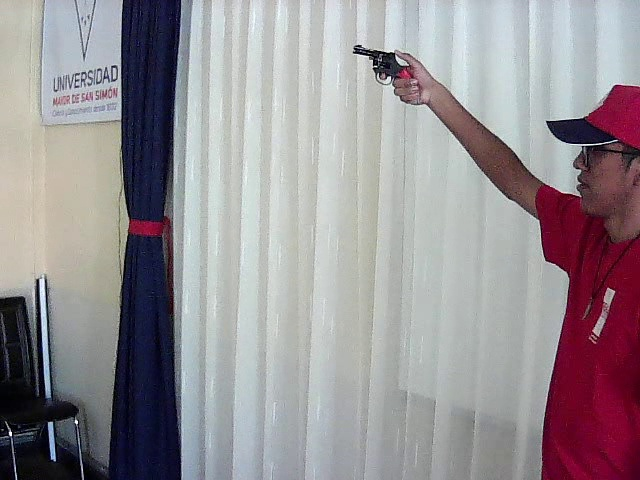pistola: (346, 39, 412, 96)
